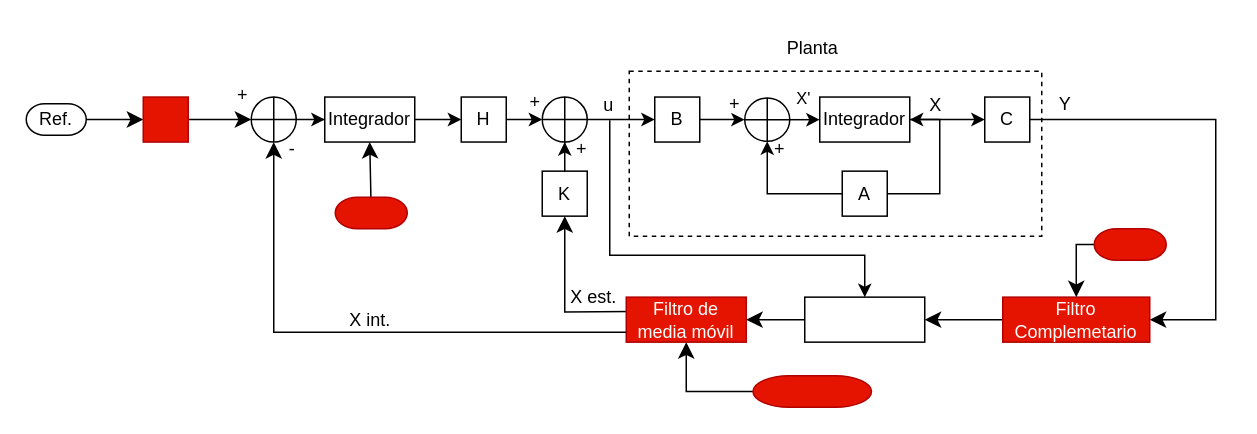
Some shapes in this 1257 by 434 pixel diagram are drawn without their labels. Each missing label, with the centre of its shape:
"alfa" belongs at point 1129,243.
"N ventana" belongs at point 812,390.
"Observador" belongs at point 864,319.
"q max" belongs at point 370,212.
"Slew rate" belongs at point 165,119.
